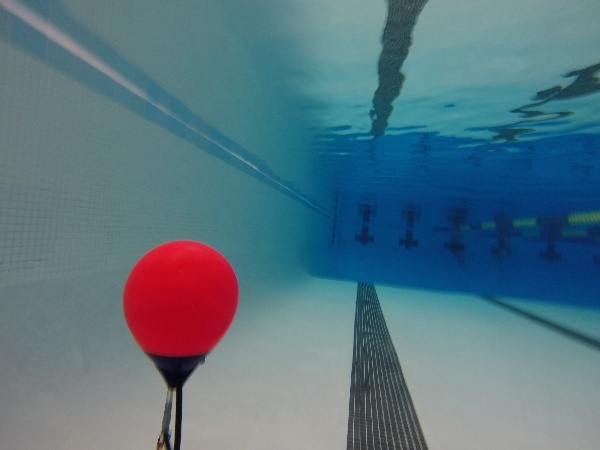buoy_red: (114, 235, 245, 392)
